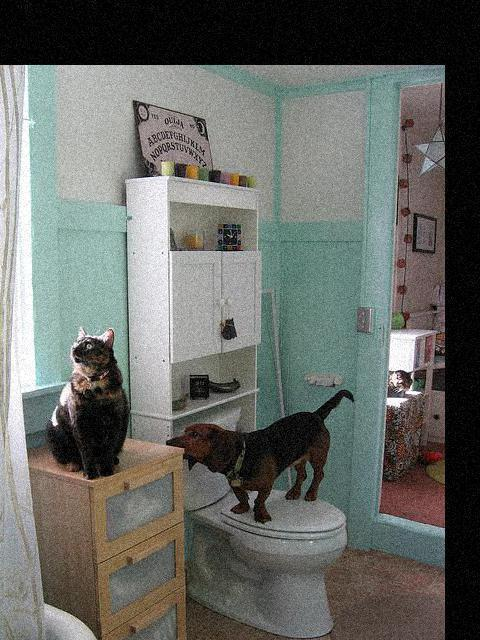Otro Obstaculo: (164, 392, 359, 524), (50, 311, 124, 475)
Sanitario: (191, 409, 348, 634)
